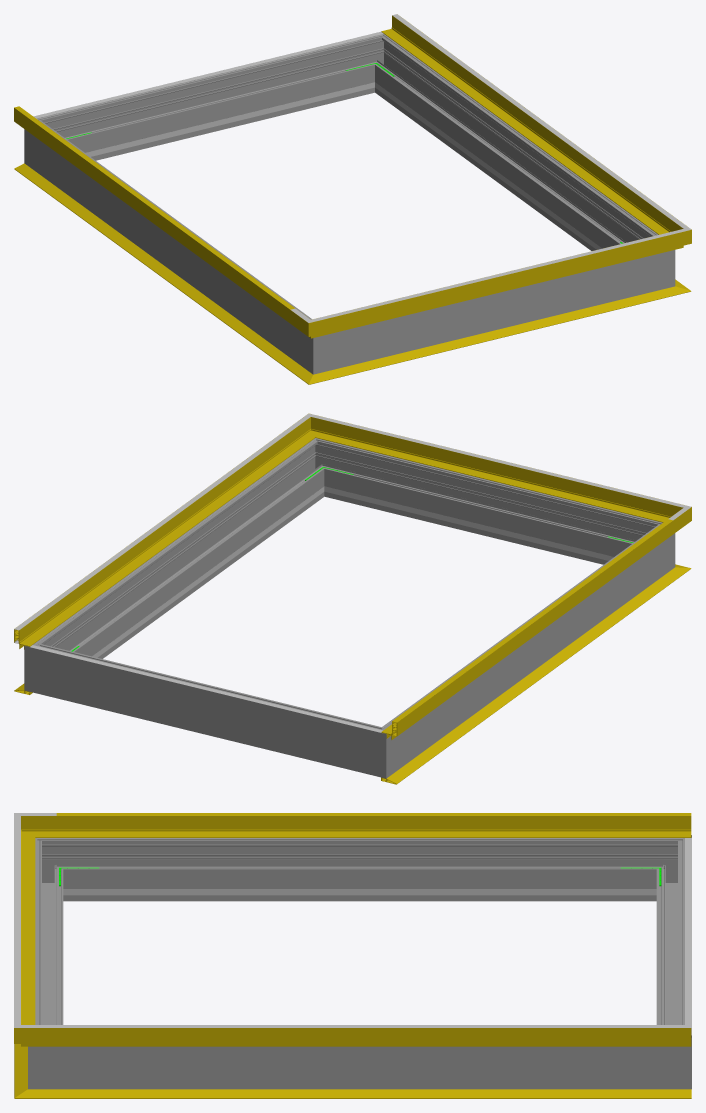
3 views of the same model, one above another, from view 1: azimuth 30°, elevation 25°; view 2: azimuth 150°, elevation 25°; view 3: azimuth 270°, elevation 25° (orthographic). The views are drawn at different scales.
Visible parts, largest first — view 1: 3DGeom-276, 3DGeom-297, 3DGeom-298, 3DGeom-268, 3DGeom-58, 3DGeom-56, 3DGeom-50, 3DGeom-38, 3DGeom-28, 3DGeom-270, 3DGeom-71, 3DGeom-64 (+9 smaller); view 2: 3DGeom-298, 3DGeom-297, 3DGeom-276, 3DGeom-268, 3DGeom-58, 3DGeom-56, 3DGeom-50, 3DGeom-38, 3DGeom-278, 3DGeom-284, 3DGeom-64, 3DGeom-71 (+8 smaller); view 3: 3DGeom-268, 3DGeom-297, 3DGeom-50, 3DGeom-58, 3DGeom-30, 3DGeom-276, 3DGeom-298, 3DGeom-232, 3DGeom-56, 3DGeom-284, 3DGeom-290, 3DGeom-64 (+9 smaller).
Boxes of the visible parts, x1,y1,x2,y2 form: 3DGeom-276: [59, 40, 369, 160]; 3DGeom-297: [378, 45, 650, 250]; 3DGeom-298: [345, 257, 643, 366]; 3DGeom-268: [42, 129, 304, 360]; 3DGeom-58: [381, 15, 672, 233]; 3DGeom-56: [337, 237, 659, 331]; 3DGeom-50: [14, 107, 291, 323]; 3DGeom-38: [14, 163, 300, 370]; 3DGeom-28: [335, 291, 659, 376]; 3DGeom-270: [294, 314, 344, 374]; 3DGeom-71: [14, 106, 294, 309]; 3DGeom-64: [392, 14, 672, 217]; 3DGeom-298: [329, 444, 640, 564]; 3DGeom-297: [48, 449, 321, 658]; 3DGeom-276: [56, 649, 359, 770]; 3DGeom-268: [394, 533, 656, 764]; 3DGeom-58: [14, 428, 306, 649]; 3DGeom-56: [331, 423, 656, 519]; 3DGeom-50: [381, 520, 673, 739]; 3DGeom-38: [381, 576, 672, 784]; 3DGeom-278: [354, 718, 404, 778]; 3DGeom-284: [24, 633, 61, 697]; 3DGeom-64: [14, 427, 294, 630]; 3DGeom-71: [392, 519, 672, 722]; 3DGeom-268: [70, 838, 649, 901]; 3DGeom-297: [70, 1046, 649, 1089]; 3DGeom-50: [56, 816, 691, 837]; 3DGeom-58: [56, 1028, 691, 1046]; 3DGeom-30: [56, 1089, 691, 1098]; 3DGeom-276: [656, 853, 684, 1024]; 3DGeom-298: [35, 853, 63, 1024]; 3DGeom-232: [104, 889, 615, 895]; 3DGeom-56: [21, 844, 35, 1024]; 3DGeom-284: [649, 1020, 691, 1089]; 3DGeom-290: [28, 1020, 70, 1089]; 3DGeom-64: [56, 1025, 691, 1027].
Bounding box in the file's own units: 1.83 × 0.2831 × 2.44.
